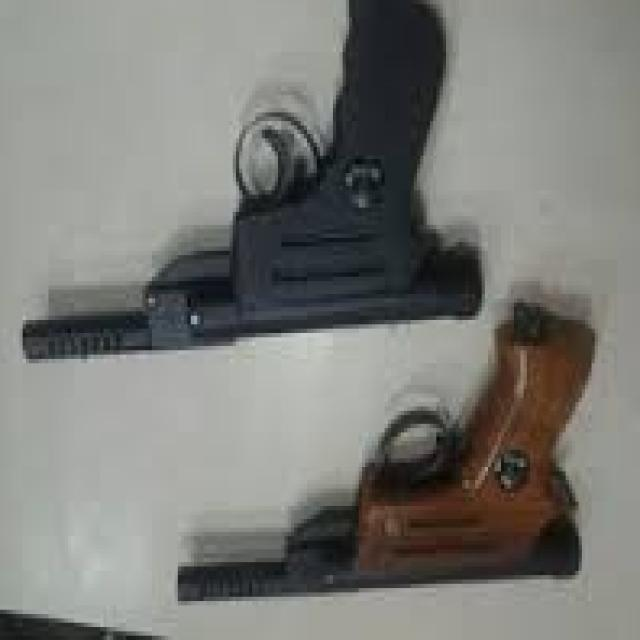gun: (9, 0, 494, 381), (160, 308, 628, 626)
